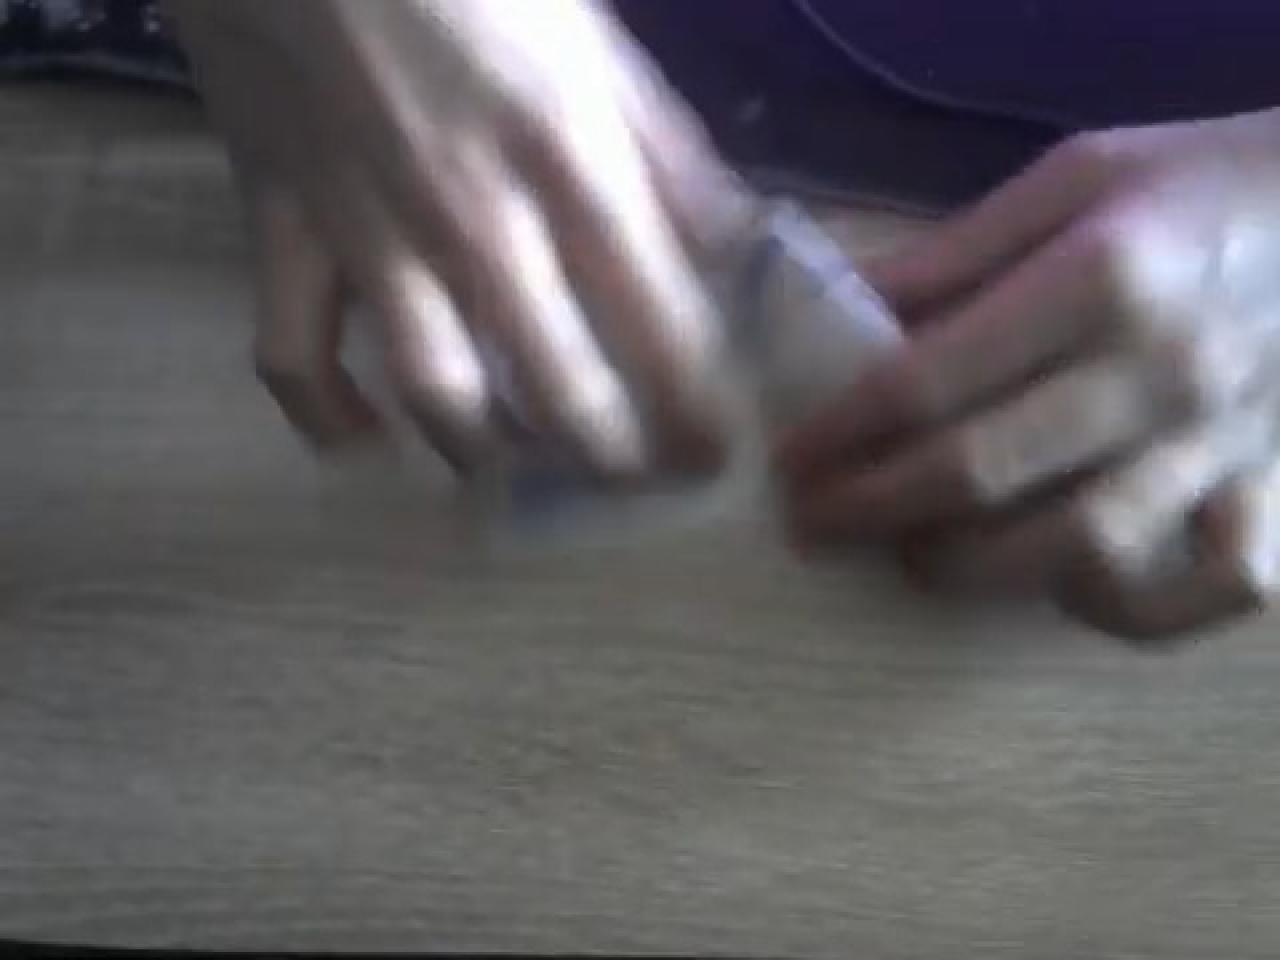20leva: (149, 0, 1278, 648)
